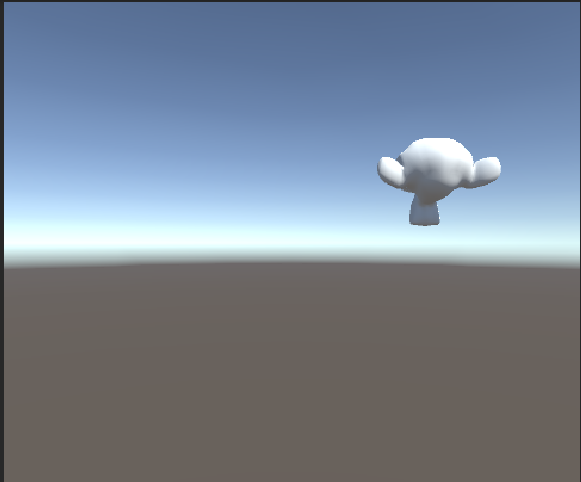monkey: (376, 134, 503, 228)
